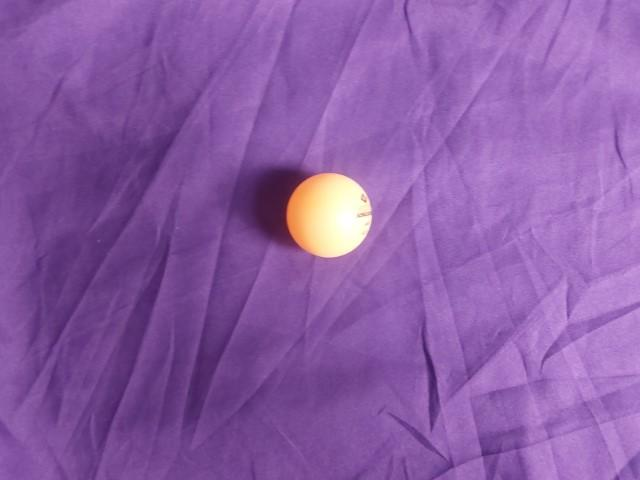oball: (263, 215, 360, 316)
